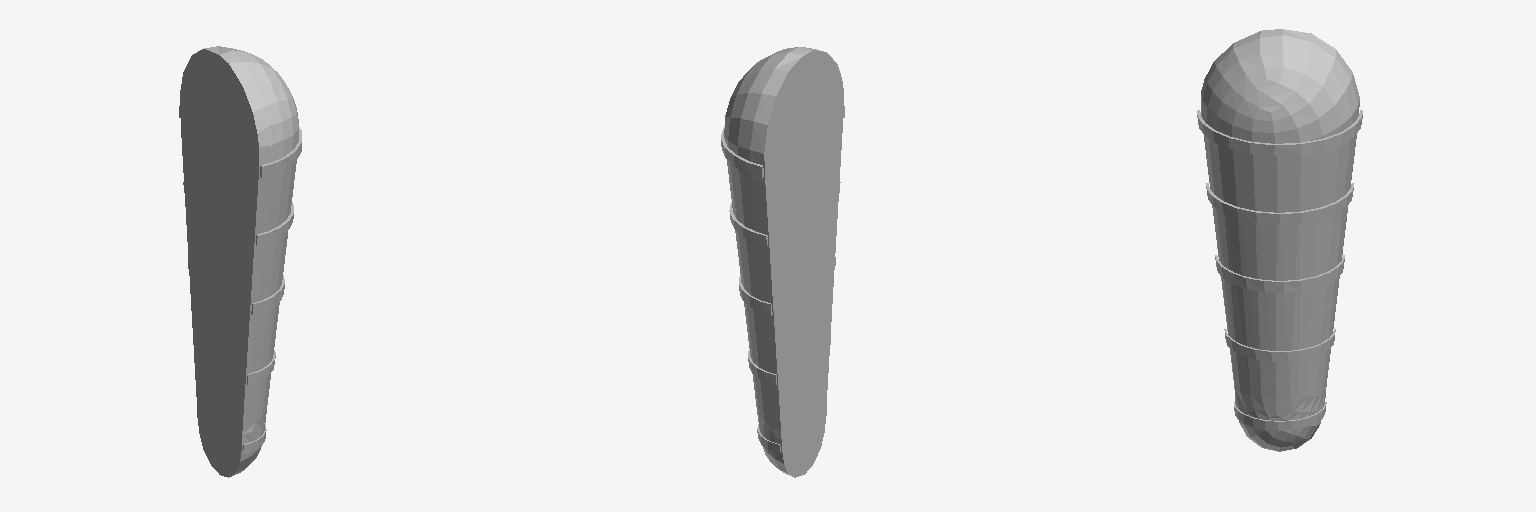
File: ResultDisplay.obj
The picture shows the model from 3 angles: view 1: azimuth 30°, elevation 25°; view 2: azimuth 150°, elevation 25°; view 3: azimuth 270°, elevation 25°; orthographic projection.
Parts seen in each view (by area): view 1: InnerGRP Res_inner, ringGRP; view 2: InnerGRP Res_inner, ringGRP; view 3: InnerGRP Res_inner, ringGRP.
Part boxes in pixels (x1,y1,x2,y2): InnerGRP Res_inner: (180,46,298,477); ringGRP: (179,106,301,453); InnerGRP Res_inner: (724,47,843,477); ringGRP: (721,106,844,454); InnerGRP Res_inner: (1201,29,1359,451); ringGRP: (1197,110,1362,430).
Bounding box in the file's own units: 10.93 × 60.47 × 21.76.